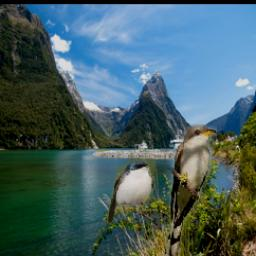Cuckoo: (162, 124, 217, 256)
Swallow: (107, 157, 156, 223)
